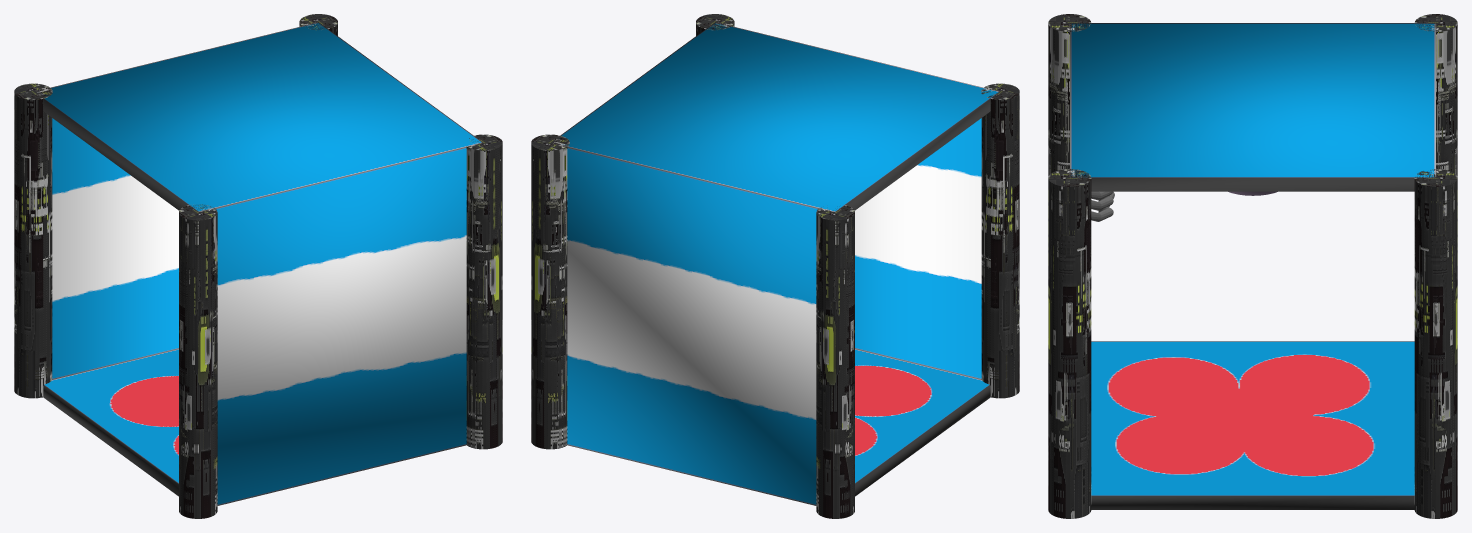
The model's file is tunnel_Type3.fbx.
3 views of the same model, side by side, from view 1: azimuth 30°, elevation 25°; view 2: azimuth 150°, elevation 25°; view 3: azimuth 270°, elevation 25° (orthographic). The views are drawn at different scales.
Parts seen in each view (by area): view 1: T_Floor, T_Obelisk; view 2: T_Floor, T_Obelisk; view 3: T_Floor, T_Obelisk, Cube.002.
Boxes of the visible parts, x1,y1,x2,y2 form: T_Floor: (43, 22, 482, 505); T_Obelisk: (14, 14, 502, 518); T_Floor: (560, 22, 999, 505); T_Obelisk: (531, 14, 1019, 518); T_Floor: (1070, 23, 1435, 509); T_Obelisk: (1048, 14, 1457, 518); Cube.002: (1091, 191, 1114, 221).
Bounding box in the file's own units: 1900 × 1700 × 1900.
7 materials, 2 textured.
